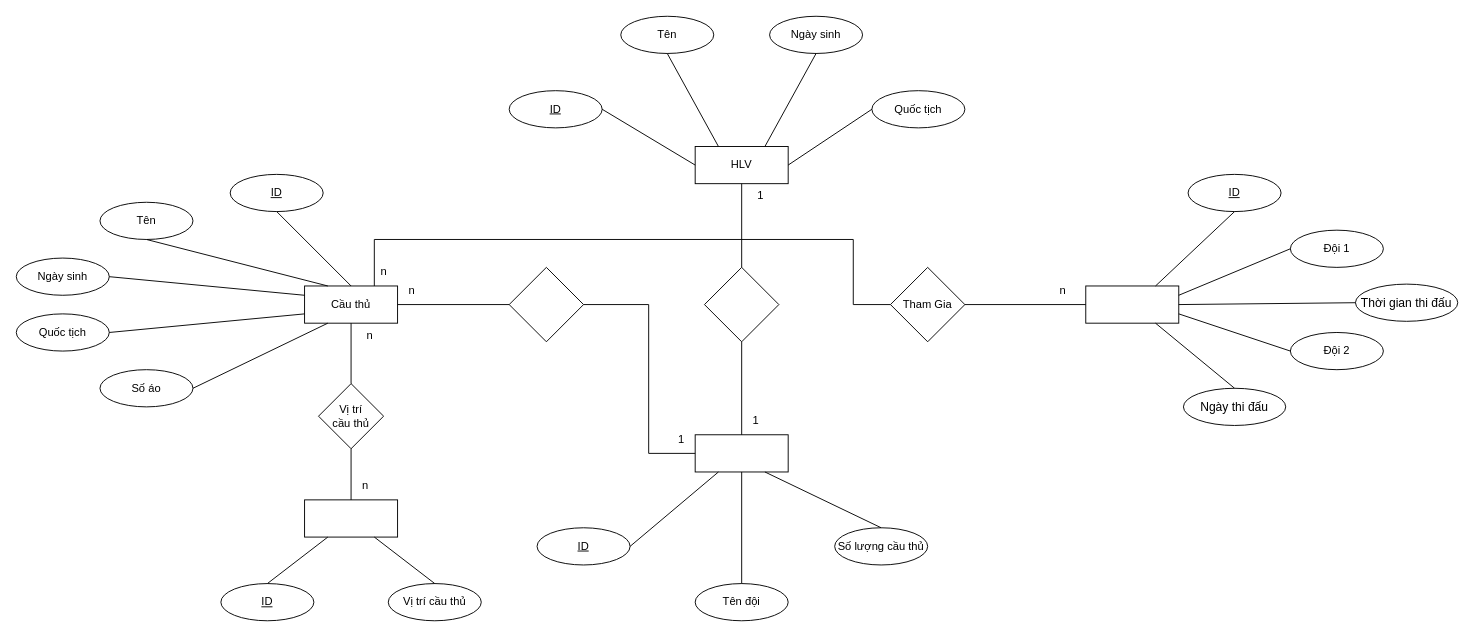
Image size: 1474x637. Some labels were removed from this diagram. The shapes that lost their labels are listed below. From the top down, each one's centre as x and y in pixels, then its label:
At point (546, 304): "Có".
At point (741, 304): "Quản lý".
At point (1132, 304): "Trận đấu".
At point (741, 453): "Đội".
At point (351, 518): "Vị trí".
